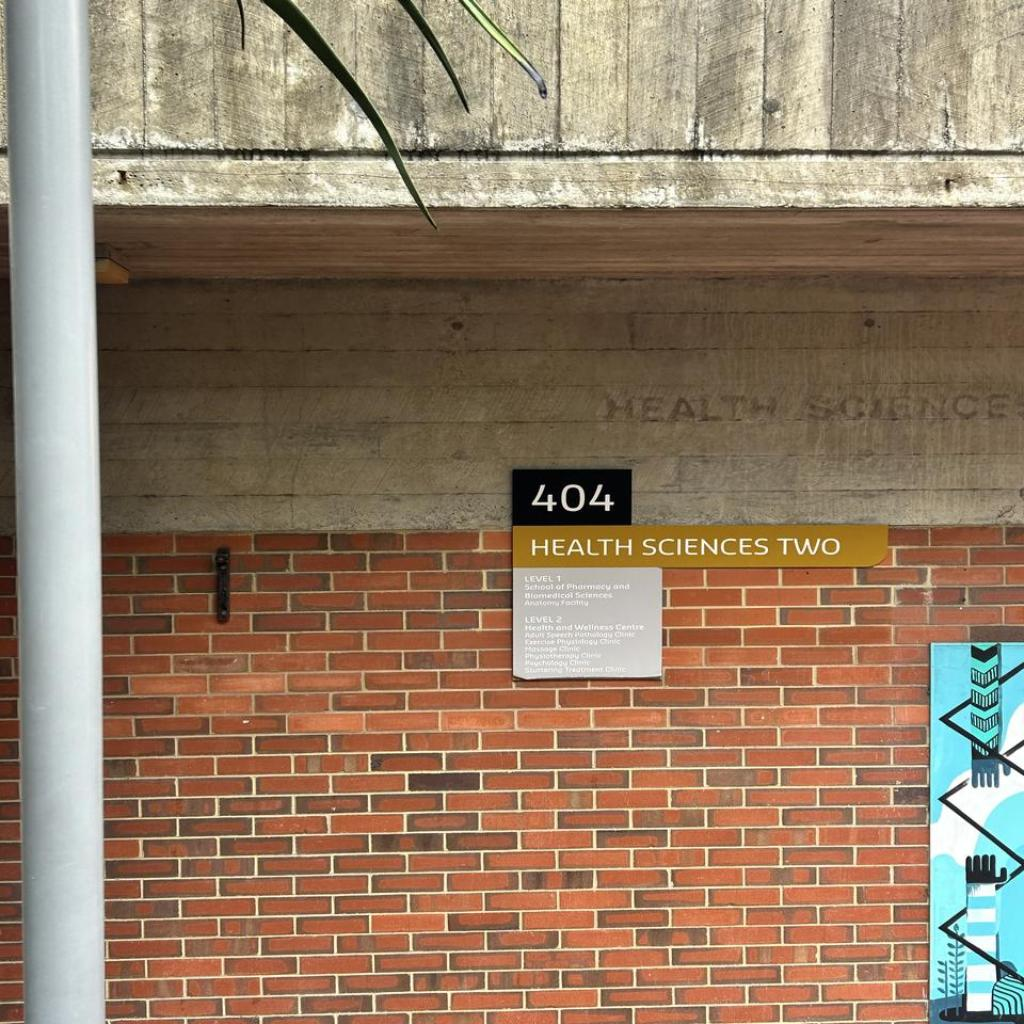BuildingCodes: (526, 481, 618, 517)
